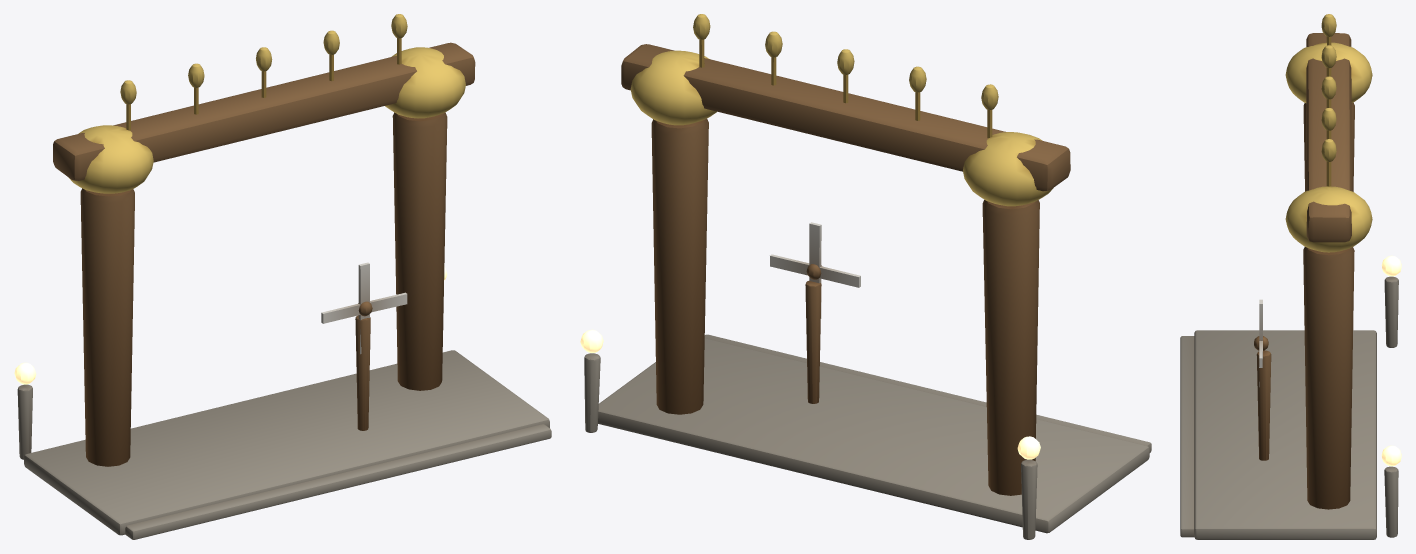
The picture shows the model from 3 angles, left to right: view 1: azimuth 30°, elevation 25°; view 2: azimuth 150°, elevation 25°; view 3: azimuth 270°, elevation 25°; orthographic projection. The views are drawn at different scales.
Visible parts, largest first — view 1: gate_07c30cbd; view 2: gate_07c30cbd; view 3: gate_07c30cbd.
Part boxes in pixels (x1,y1,x2,y2): gate_07c30cbd: (14,14,551,539); gate_07c30cbd: (580,14,1151,539); gate_07c30cbd: (1180,14,1401,539).
Bounding box in the file's own units: 5.42 × 4.64 × 2.54.
